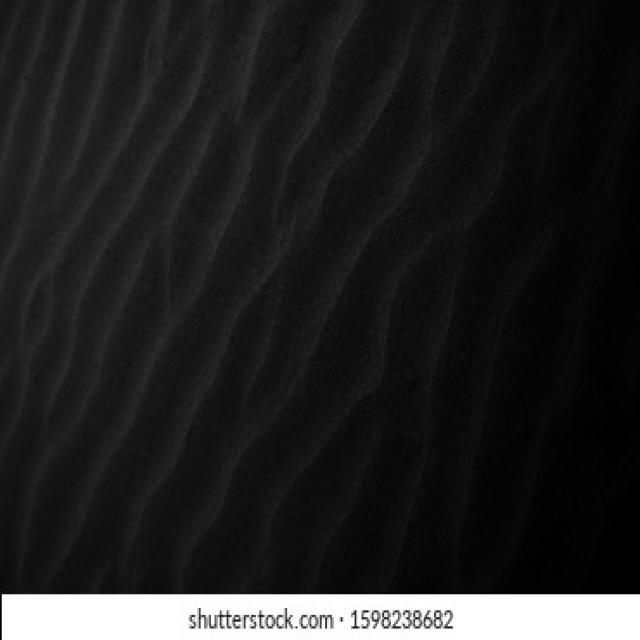Black Soil: (54, 74, 566, 529)
